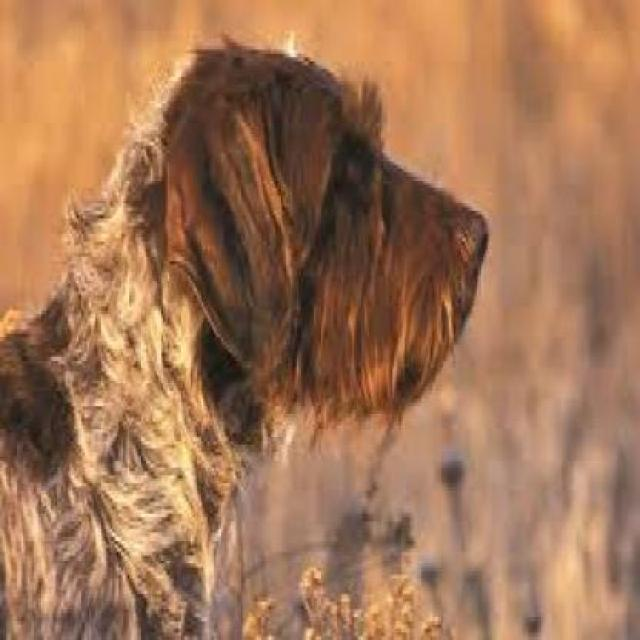animals: (0, 32, 500, 640)
